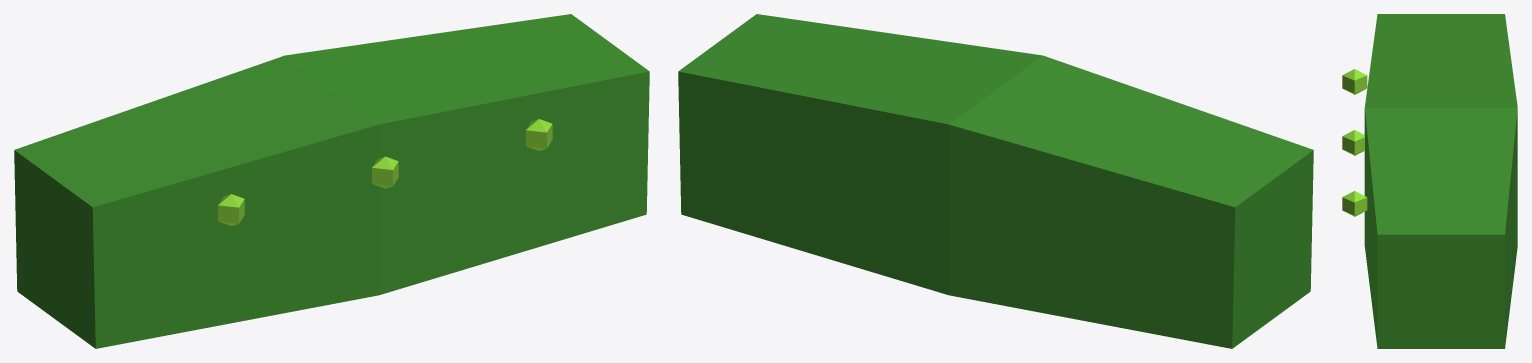
The model's file is Cucumber.fbx.
3 renders of one model, left to right at view 1: azimuth 30°, elevation 25°; view 2: azimuth 150°, elevation 25°; view 3: azimuth 270°, elevation 25°, orthographic. The views are drawn at different scales.
Parts seen in each view (by area): view 1: Cucumber; view 2: Cucumber; view 3: Cucumber.
Part boxes in pixels (x1,y1,x2,y2): Cucumber: (14,14,649,348); Cucumber: (678,14,1313,348); Cucumber: (1342,14,1517,348).
Size of the model in its own units: 1.81 by 0.5303 by 0.6085.
Materials: 1 (1 with a texture image).
